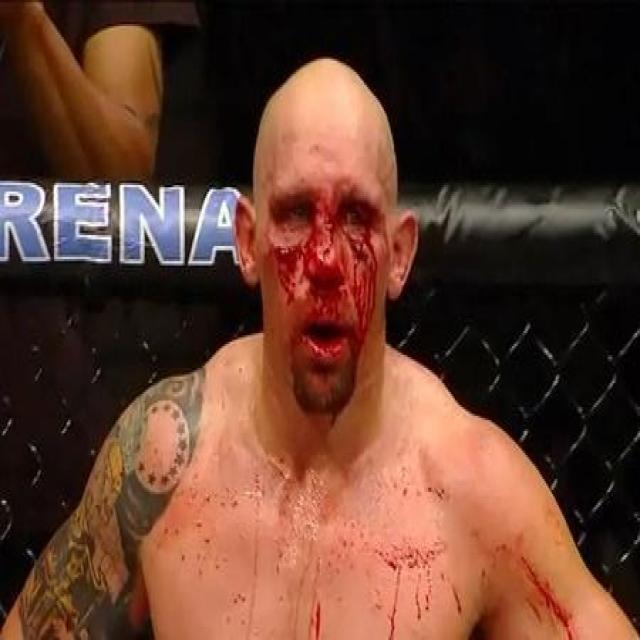flood: (267, 166, 384, 388)
